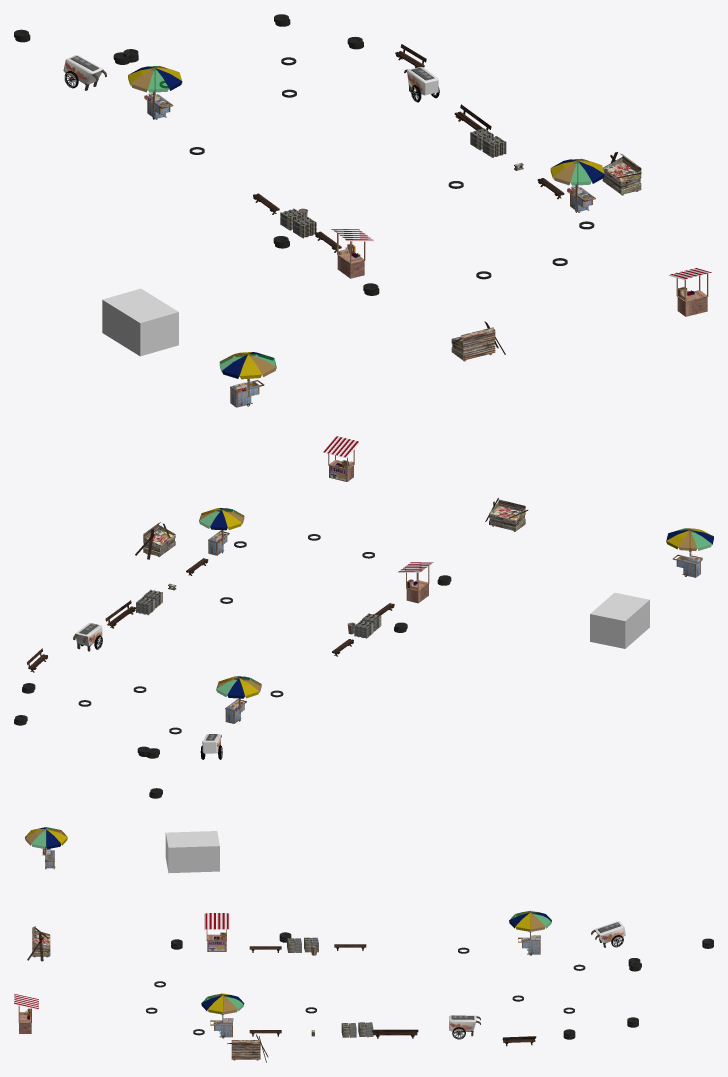
Rendered from barangay_props.glb.
3 renders of one model, top to bottom at view 1: azimuth 30°, elevation 25°; view 2: azimuth 150°, elevation 25°; view 3: azimuth 270°, elevation 25°, orthographic. The views are drawn at different scales.
Visible parts, largest first — view 1: Fisballan, Props 1, Cube, Cube.007, fishbolbol.001, Cube.001, Cube.013; view 2: Fisballan, Props 1, fishbolbol.001, Cube.007, Cube; view 3: Fisballan, Props 1, Cube, fishbolbol.001, Cube.007, Cube.001, Cube.013.
Part boxes in pixels (x1,y1,x2,y2): Fisballan: (102, 66, 604, 407); Props 1: (63, 55, 439, 278); Cube: (602, 152, 641, 195); Cube.007: (451, 321, 505, 361); fishbolbol.001: (668, 268, 711, 316); Cube.001: (470, 128, 506, 157); Cube.013: (280, 208, 316, 238); Fisballan: (199, 508, 713, 723); Props 1: (73, 562, 433, 759); fishbolbol.001: (323, 436, 359, 481); Cube.007: (485, 498, 528, 531); Cube: (135, 522, 175, 559); Fisballan: (25, 827, 551, 1038); Props 1: (204, 913, 625, 1039); Cube: (227, 1034, 268, 1062); fishbolbol.001: (14, 993, 38, 1033); Cube.007: (27, 926, 50, 961); Cube.001: (341, 1022, 373, 1037); Cube.013: (287, 937, 318, 952).
Bounding box in the file's own units: 55.65 × 5.08 × 79.48.
61 materials, 30 textured.
